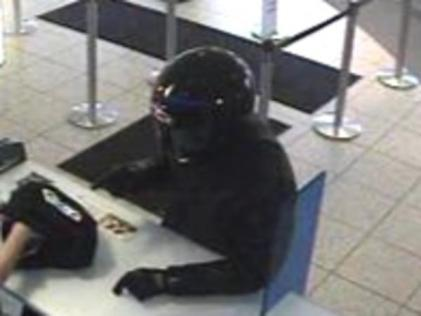helmet: (139, 41, 270, 173)
